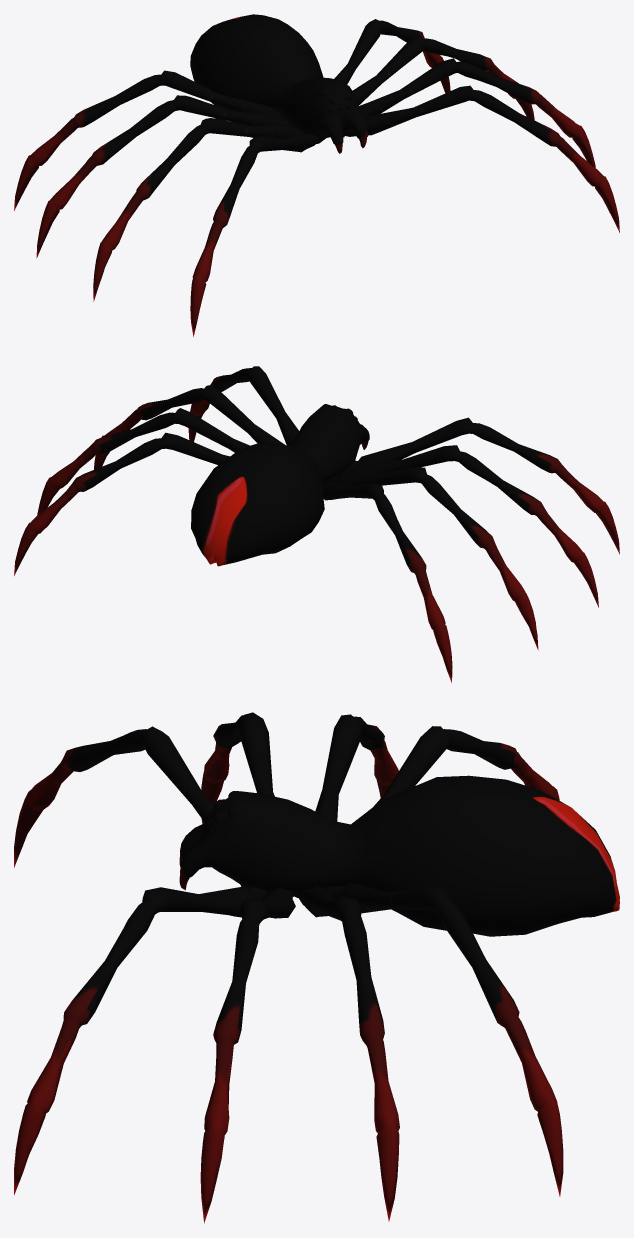
The model's file is lactrodectus_hasselti_model.gltf.
3 views of the same model, one above another, from view 1: azimuth 30°, elevation 25°; view 2: azimuth 150°, elevation 25°; view 3: azimuth 270°, elevation 25° (orthographic). The views are drawn at different scales.
Parts seen in each view (by area): view 1: spider; view 2: spider; view 3: spider.
Part boxes in pixels (x1=…): spider: x1=14, y1=14, x2=619, y2=336; spider: x1=14, y1=366, x2=619, y2=682; spider: x1=14, y1=712, x2=619, y2=1223.
Size of the model in its own units: 8.53 by 2.52 by 5.66.
3 materials, 2 textured.
